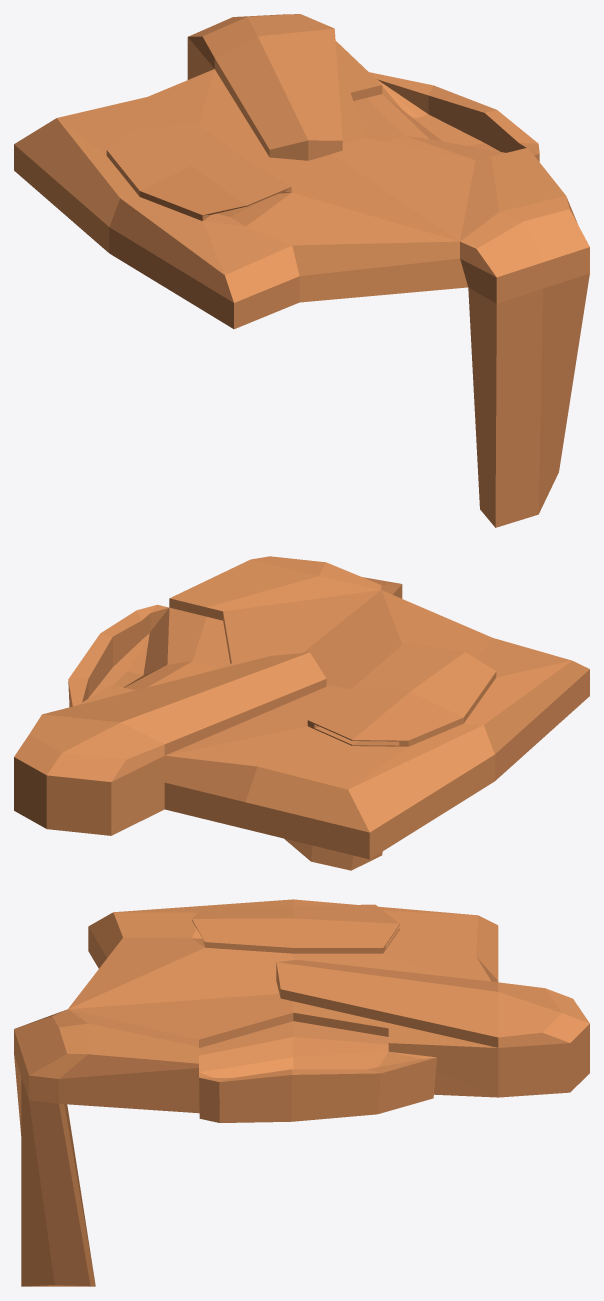
The model's file is SM_Clothes_03.fbx.
3 renders of one model, top to bottom at view 1: azimuth 30°, elevation 25°; view 2: azimuth 150°, elevation 25°; view 3: azimuth 270°, elevation 25°, orthographic. The views are drawn at different scales.
Visible parts, largest first — view 1: SM_Clothes_03; view 2: SM_Clothes_03; view 3: SM_Clothes_03.
Part boxes in pixels (bbox=[...]): SM_Clothes_03: bbox=[14, 14, 589, 527]; SM_Clothes_03: bbox=[14, 556, 589, 870]; SM_Clothes_03: bbox=[14, 899, 589, 1286].
Bounding box in the file's own units: 310 × 235 × 421.
